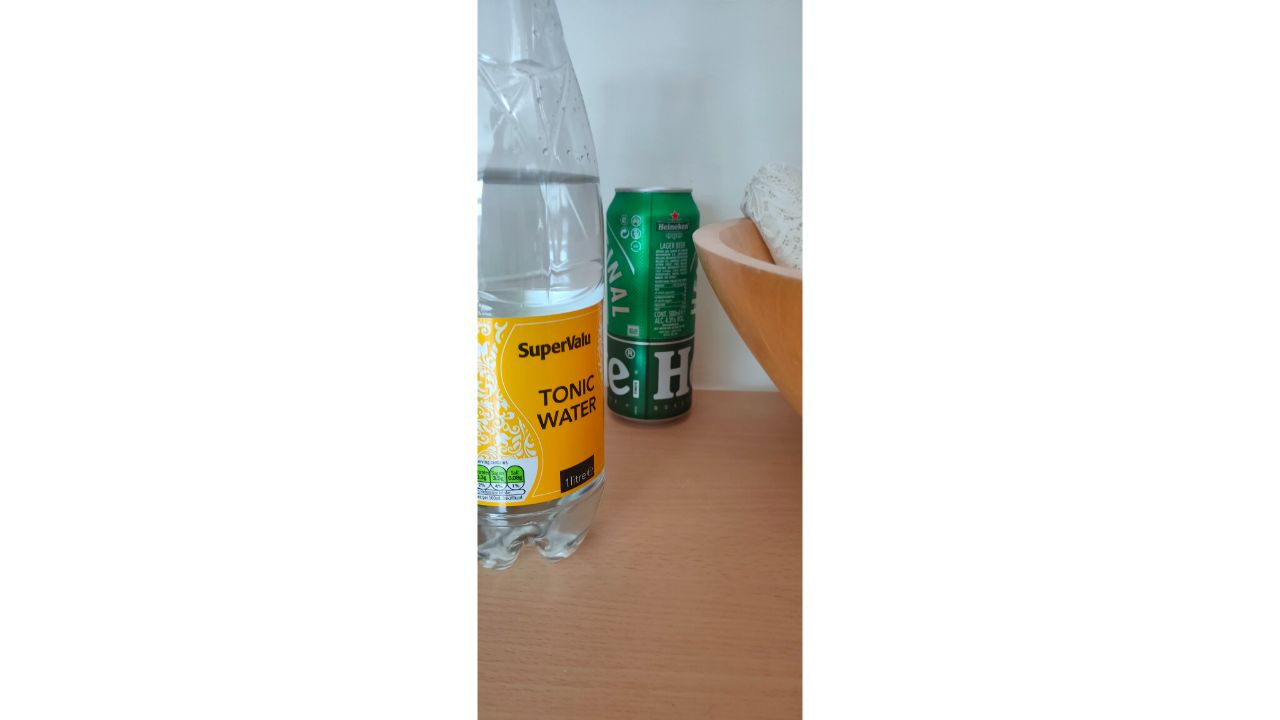Can: (608, 181, 708, 432)
